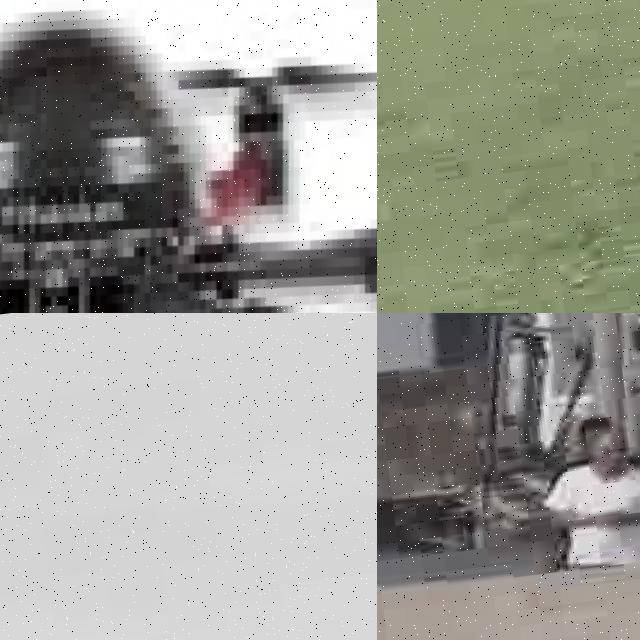drone: (0, 0, 377, 313)
